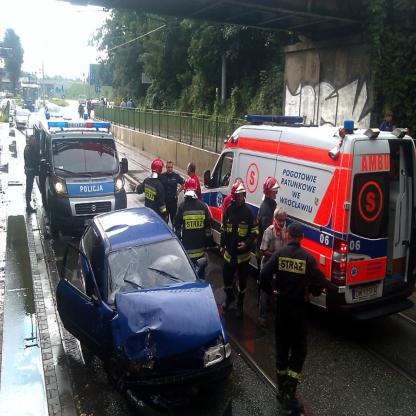Ambulance - v1 Ambulance last generate: (198, 116, 416, 326)
